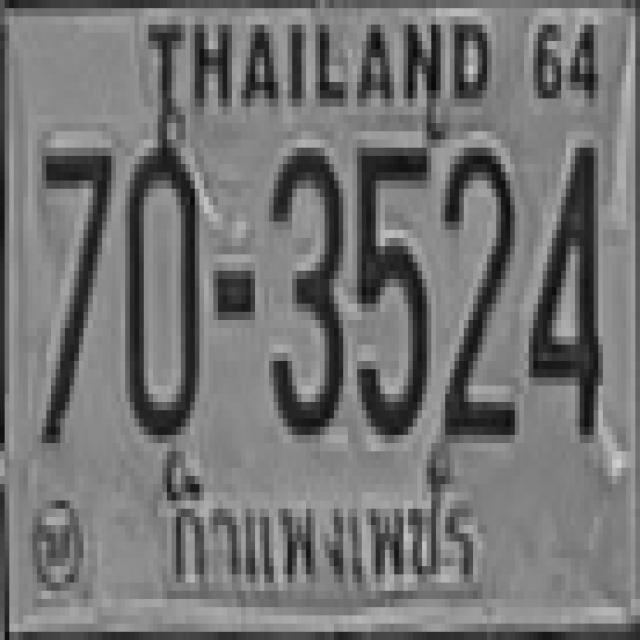0: (123, 139, 197, 435)
2: (441, 139, 510, 435)
3: (269, 144, 339, 430)
4: (524, 139, 598, 435)
5: (352, 139, 427, 435)
7: (37, 140, 111, 443)
KamphaengPhet: (164, 461, 482, 586)
